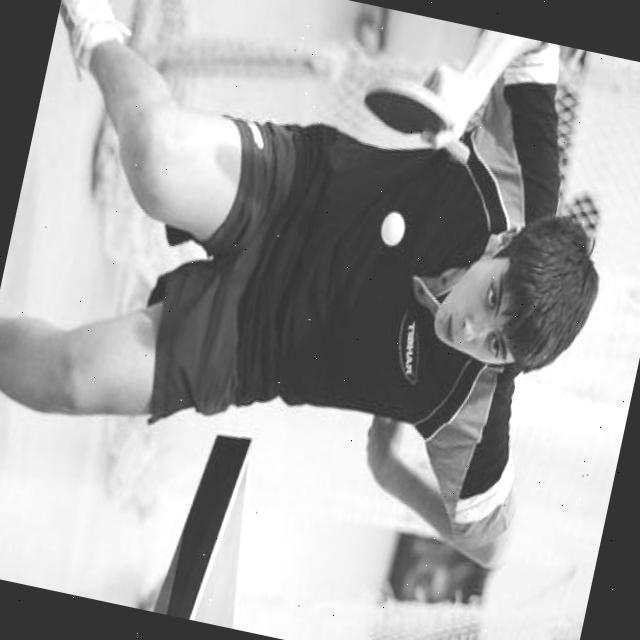ping-pong-ball: (378, 208, 409, 246)
